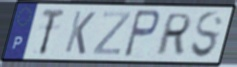K: (63, 9, 98, 56)
P: (122, 9, 162, 60)
R: (153, 12, 194, 57)
S: (189, 9, 226, 60)
T: (37, 7, 67, 57)
Z: (90, 10, 134, 57)
